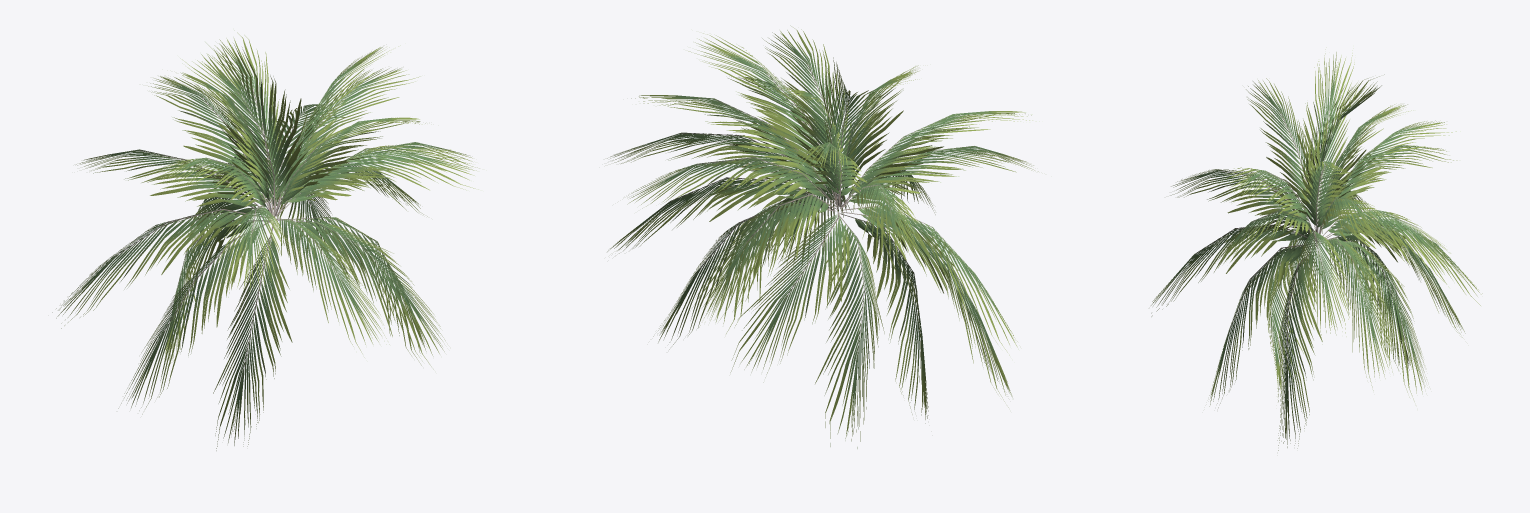
Rendered from m_palm_p2_10_leaf_0_lev2.glb.
3 views of the same model, side by side, from view 1: azimuth 30°, elevation 25°; view 2: azimuth 150°, elevation 25°; view 3: azimuth 270°, elevation 25° (orthographic). The views are drawn at different scales.
Visible parts, largest first — view 1: m_palm_p2_10_leaf_0_lev2; view 2: m_palm_p2_10_leaf_0_lev2; view 3: m_palm_p2_10_leaf_0_lev2.
Part boxes in pixels (box(x1,y1,x2,y2)): m_palm_p2_10_leaf_0_lev2: box(52, 30, 479, 450); m_palm_p2_10_leaf_0_lev2: box(607, 25, 1039, 448); m_palm_p2_10_leaf_0_lev2: box(1151, 47, 1482, 450).
Size of the model in its own units: 4.1 by 3.46 by 3.14.
1 material, 1 textured.
